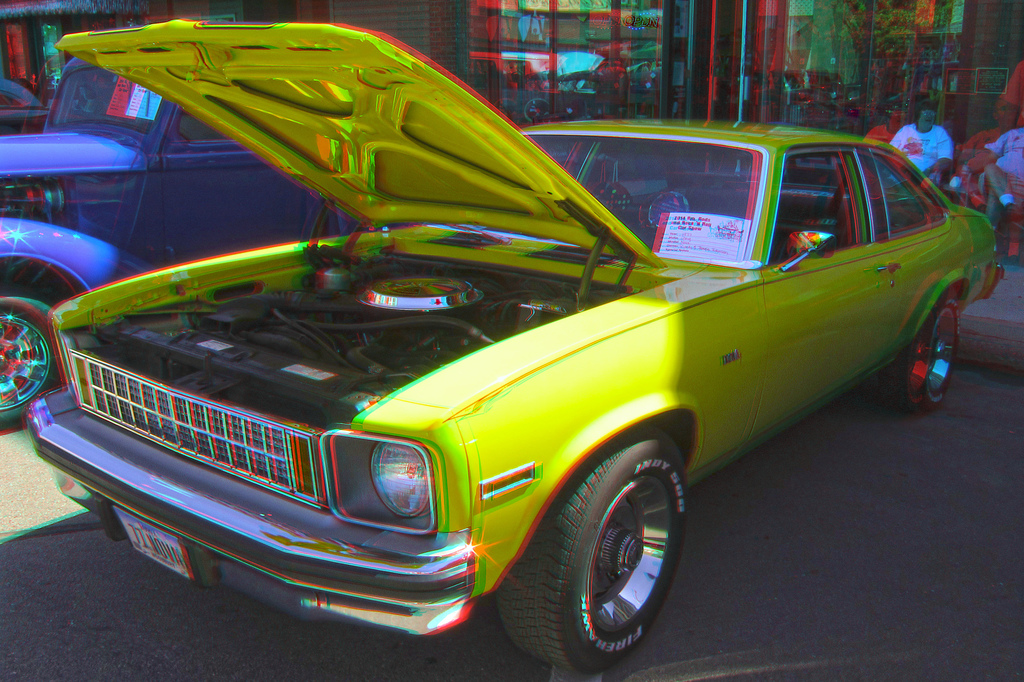Car: (20, 17, 1003, 671), (0, 55, 666, 420), (0, 74, 48, 135)
